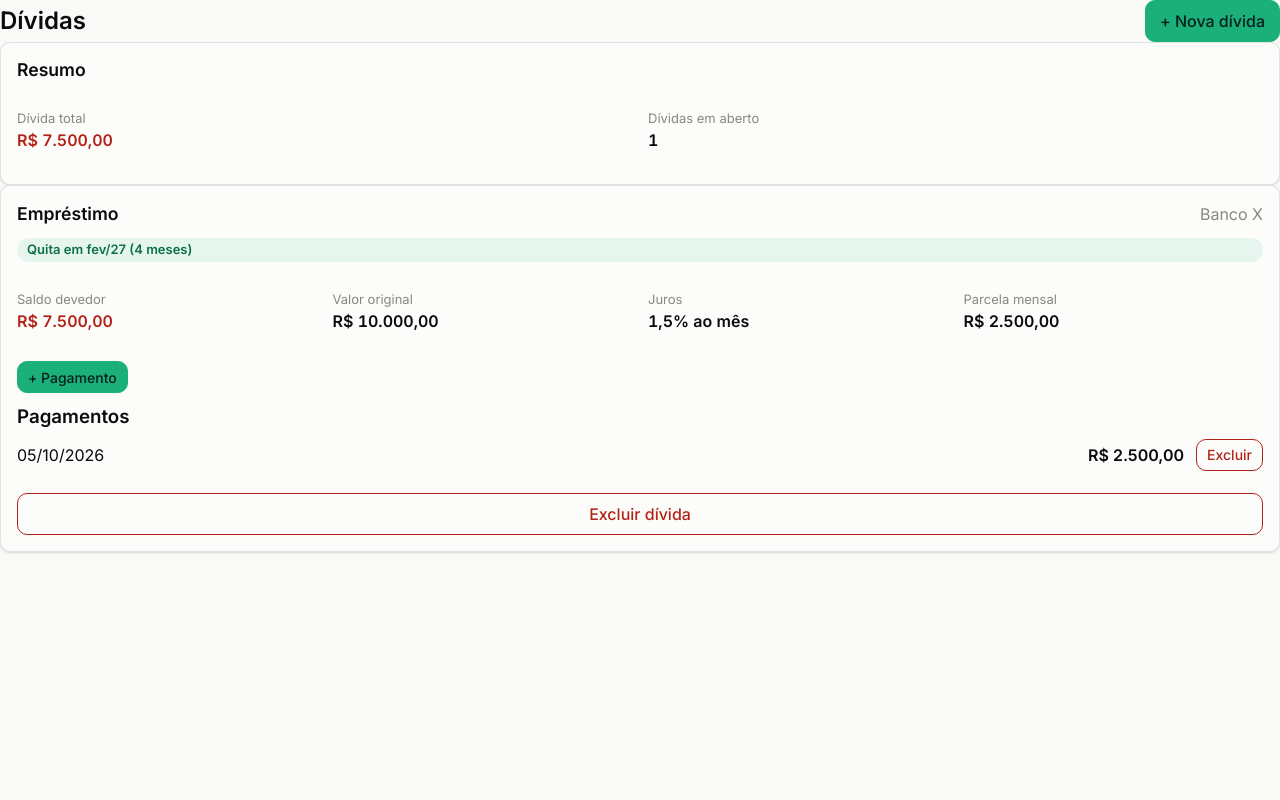
Test: DebtsPage › shows failures when deleting
Click the button with aria-label "Excluir dívida Empréstimo": [640, 514] box [17,493,1263,535]
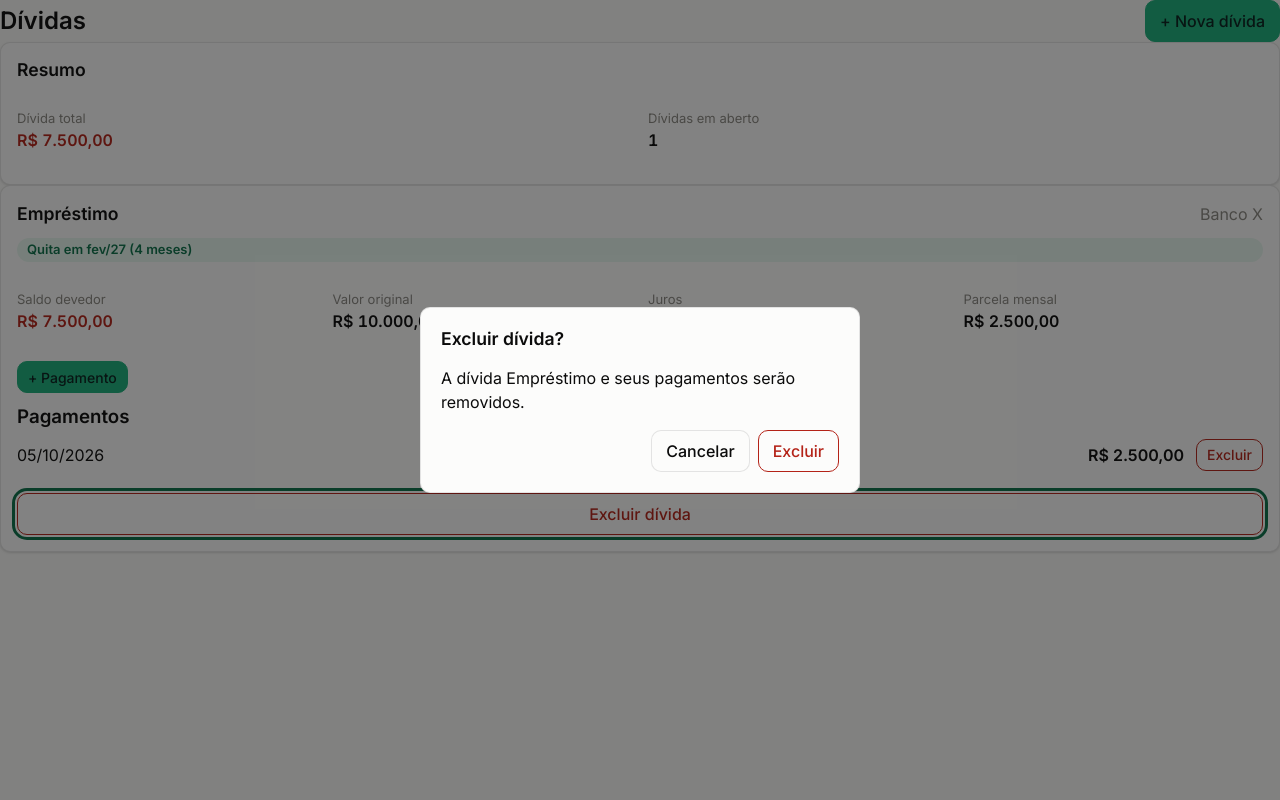
Click the button "Excluir": [798, 451] box [758,430,839,472]
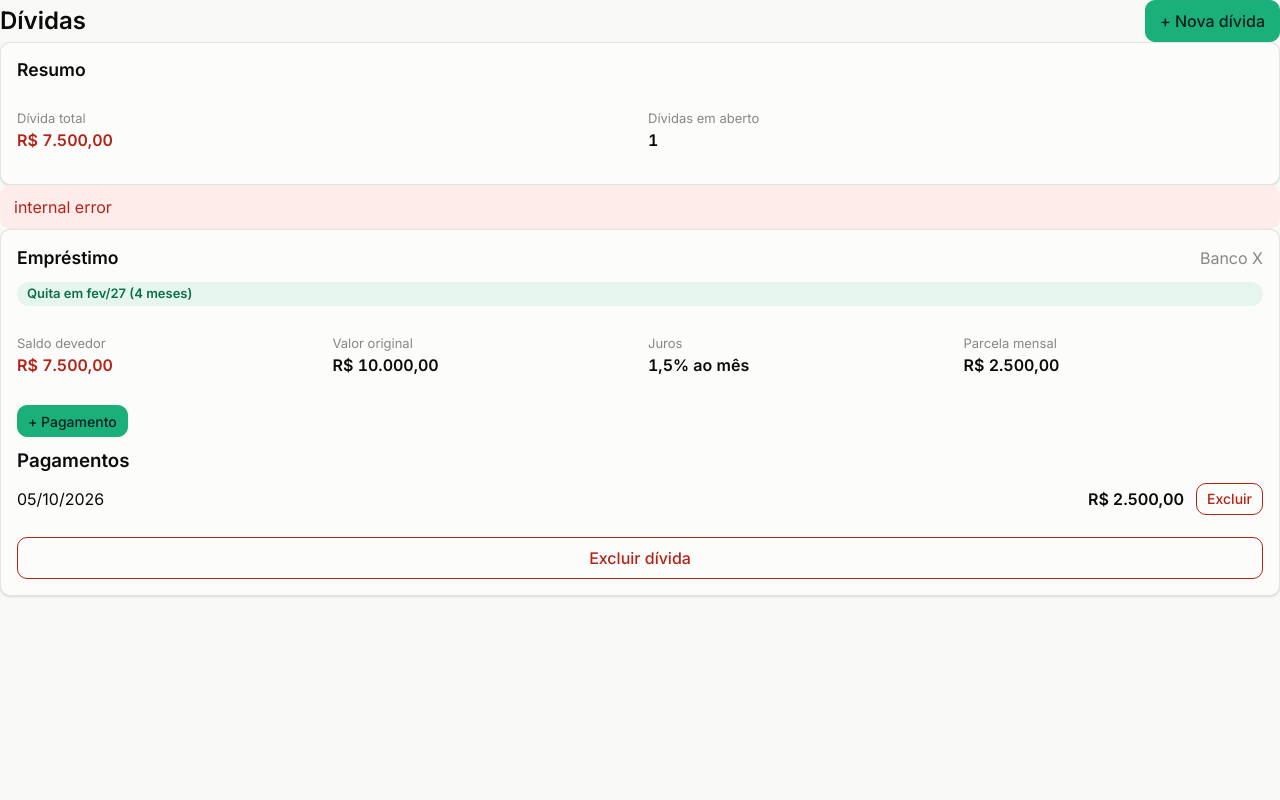
Check: the text "internal error" is shown, box [0,186,1279,230]
